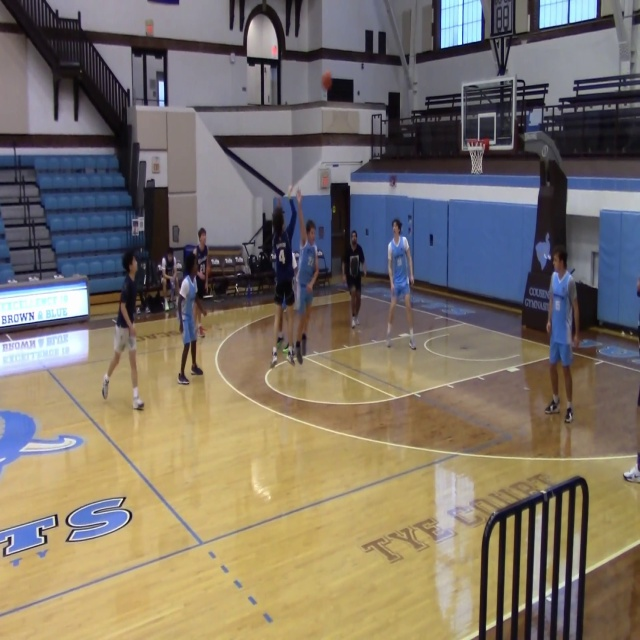Basketball: (321, 71, 332, 90)
